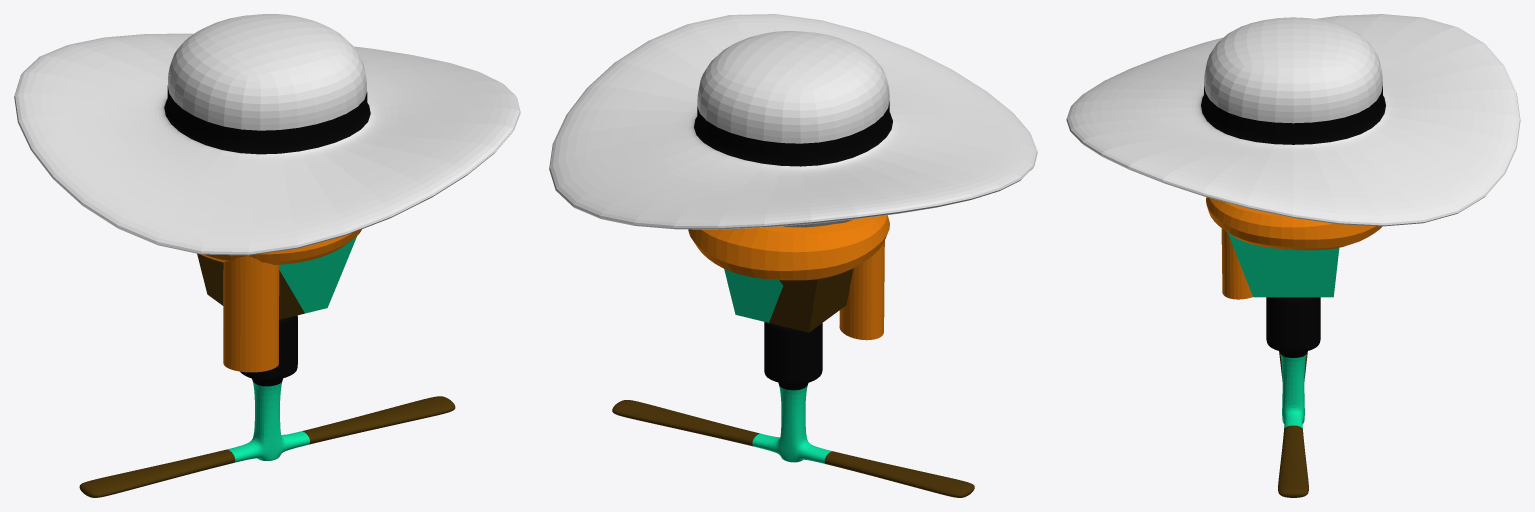
The model's file is worker.fbx.
The picture shows the model from 3 angles, left to right: view 1: azimuth 30°, elevation 25°; view 2: azimuth 150°, elevation 25°; view 3: azimuth 270°, elevation 25°; orthographic projection. The views are drawn at different scales.
Parts seen in each view (by area): view 1: Cube.003, Cube.001, Cylinder, Cube.002, Torus; view 2: Cube.003, Cube.001, Torus, Cube.002, Cylinder; view 3: Cube.003, Cube.001, Cube.002, Torus, Cylinder.
Boxes of the visible parts, x1,y1,x2,y2 form: Cube.003: (14, 14, 520, 255); Cube.001: (79, 315, 455, 497); Cylinder: (223, 256, 279, 372); Cube.002: (197, 234, 357, 319); Torus: (201, 229, 361, 264); Cube.003: (549, 14, 1037, 229); Cube.001: (612, 322, 974, 497); Torus: (688, 215, 889, 280); Cube.002: (724, 268, 853, 332); Cylinder: (839, 241, 884, 340); Cube.003: (1066, 14, 1520, 226); Cube.001: (1266, 297, 1320, 497); Cube.002: (1227, 231, 1339, 297); Torus: (1206, 197, 1382, 250); Cylinder: (1221, 228, 1252, 299).
Bounding box in the file's own units: 466 × 438 × 466.
